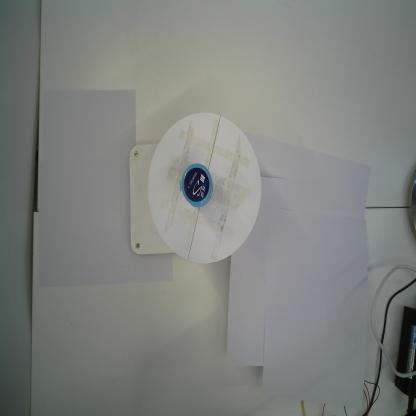Gum: (179, 163, 213, 208)
